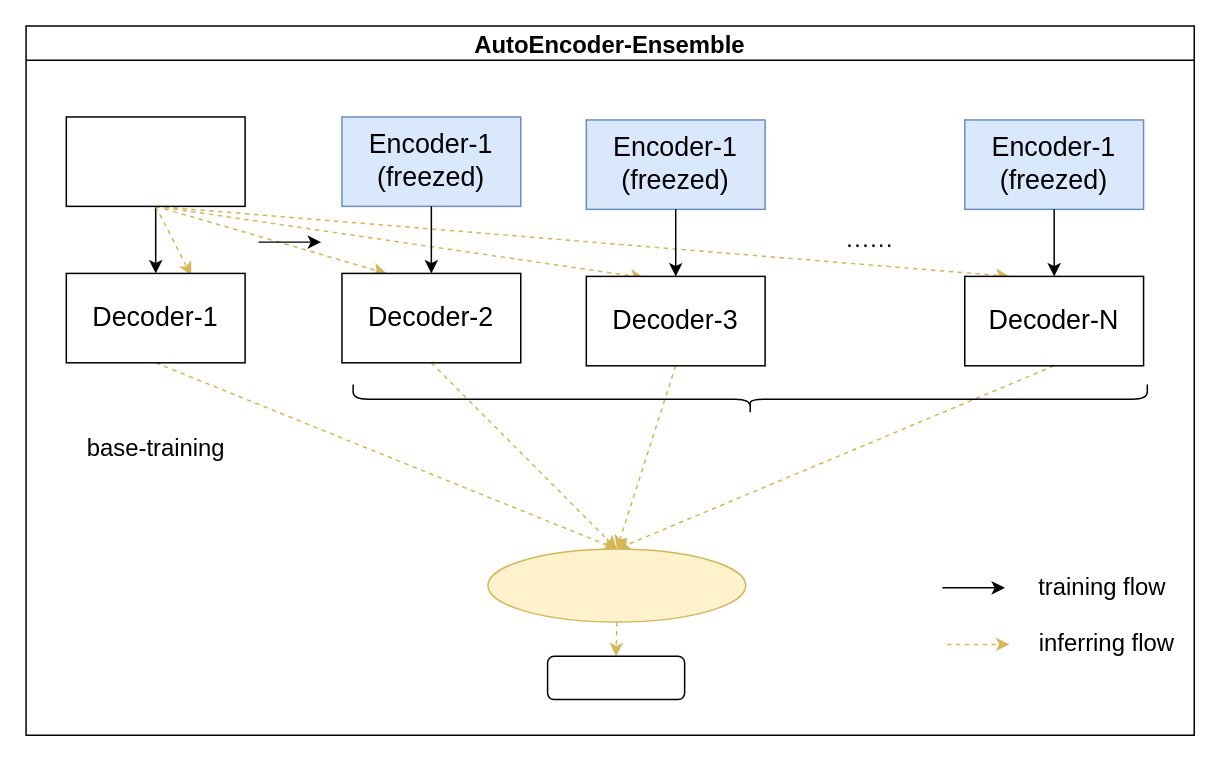
The diagram is 1220 pixels wide and 761 high, and some of its shapes have lost their labels. The shapes that lost their labels are listed below. From the top down, each one's centre as x and y in pixels, then its label:
pixel 155 160: Encoder-1
pixel 749 398: async-training
pixel 616 585: ElementwiseMean
pixel 615 677: Output
